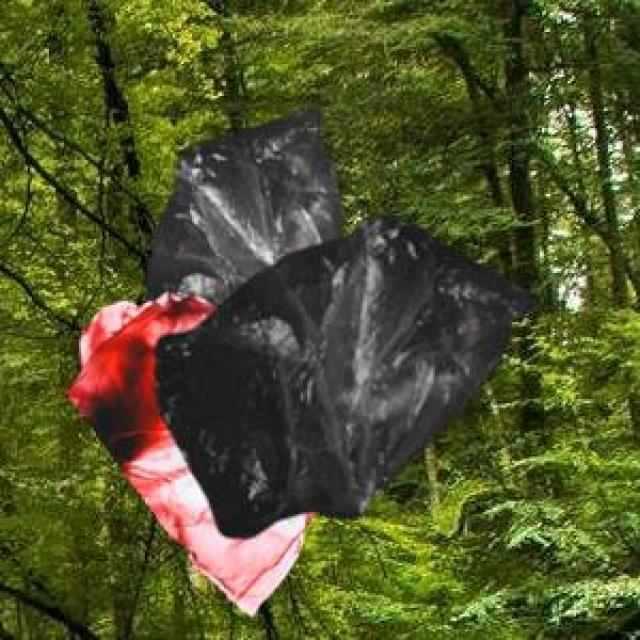waste: (149, 111, 531, 536), (69, 292, 311, 613)
